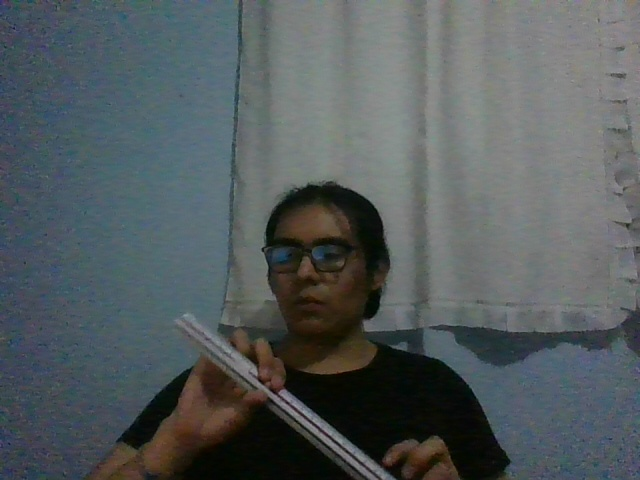regla: (173, 311, 396, 480)
